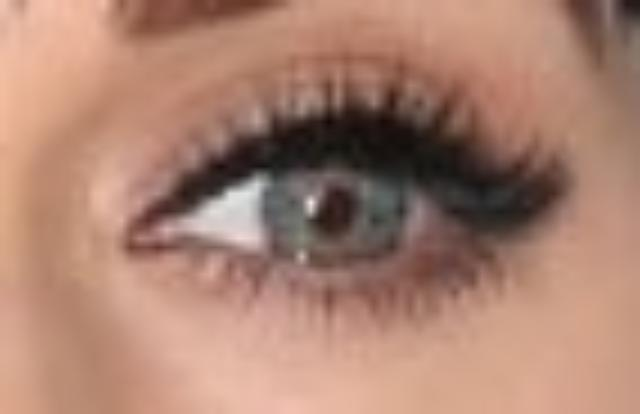eye: (260, 140, 416, 274)
